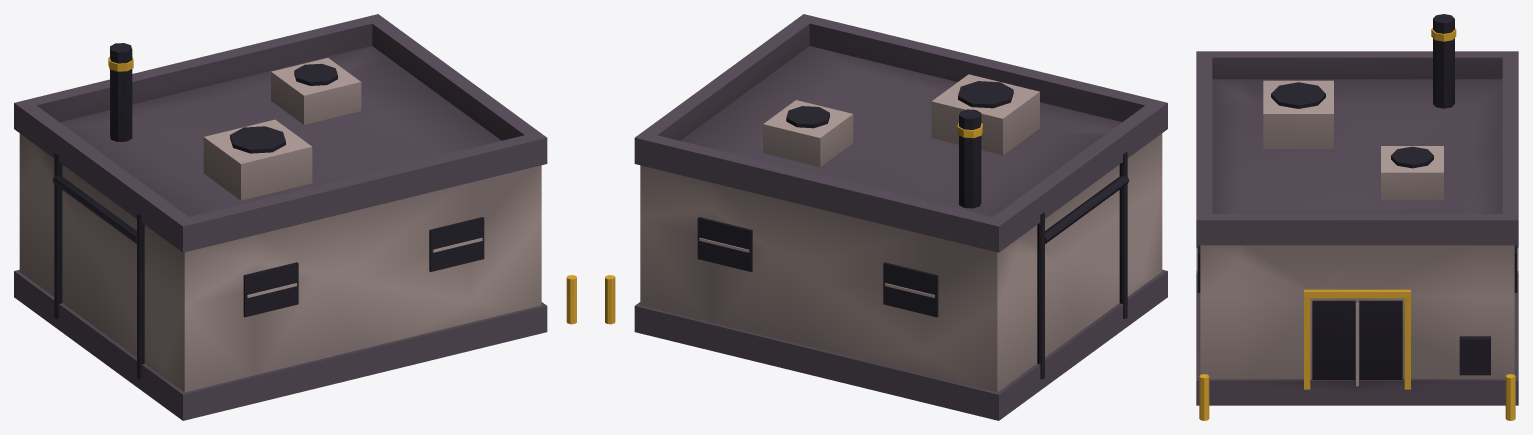
File: bld.cure-service-building.lod1.glb
3 renders of one model, left to right at view 1: azimuth 30°, elevation 25°; view 2: azimuth 150°, elevation 25°; view 3: azimuth 270°, elevation 25°, orthographic. The views are drawn at different scales.
Parts seen in each view (by area): view 1: body; view 2: body; view 3: body.
Boxes of the visible parts, box(x1,y1,x2,y2) form: body: box(14, 14, 576, 420); body: box(605, 14, 1167, 420); body: box(1196, 14, 1518, 420).
Bounding box in the file's own units: 11.26 × 7 × 8.2.
